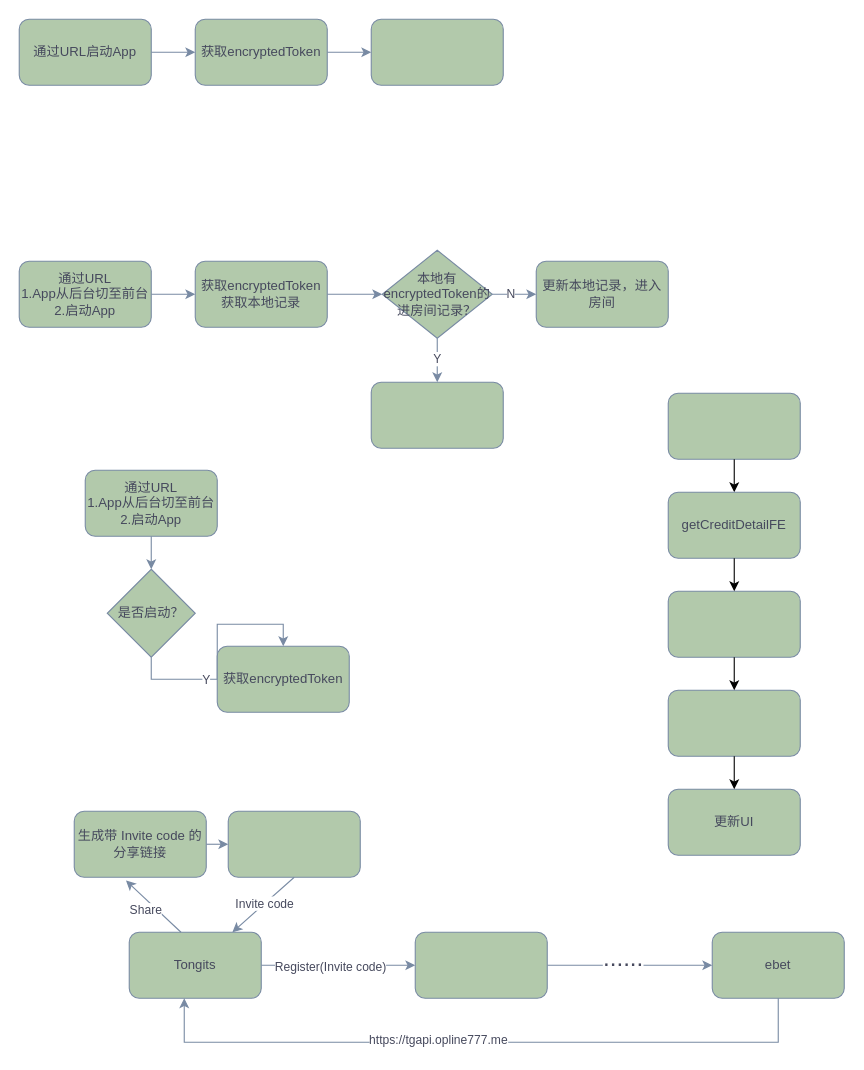
The diagram is 864 pixels wide and 1070 high, and some of its shapes have lost their labels. The shapes that lost their labels are listed below. From the top down, each one's box as (x1, y1, x2, y2) in pixels, then its label:
(370, 18, 503, 85): 进入房间
(370, 381, 503, 448): 不处理
(667, 392, 800, 459): 用户刷新金币
(667, 590, 800, 657): transferToProvider
(667, 689, 800, 756): balance
(227, 810, 360, 877): 新用户点击邀请链接
(414, 931, 547, 998): FPMS
